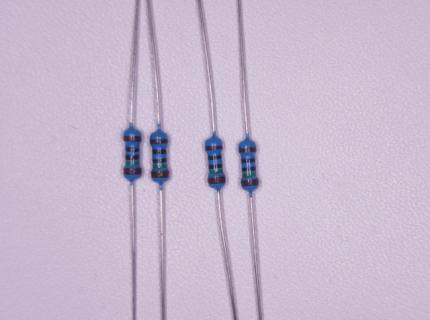Black band: (125, 146, 140, 152), (208, 164, 222, 170), (242, 166, 256, 172), (152, 149, 166, 154), (125, 155, 139, 160), (208, 155, 222, 160), (241, 158, 255, 163), (153, 158, 166, 163)
Brown band: (151, 170, 169, 178), (241, 179, 259, 187), (207, 177, 224, 184), (124, 168, 142, 174), (124, 136, 141, 142), (205, 145, 222, 151), (239, 147, 256, 153), (150, 139, 168, 144)
Green band: (126, 161, 140, 166), (242, 173, 256, 177), (153, 165, 166, 169), (209, 169, 222, 173)
